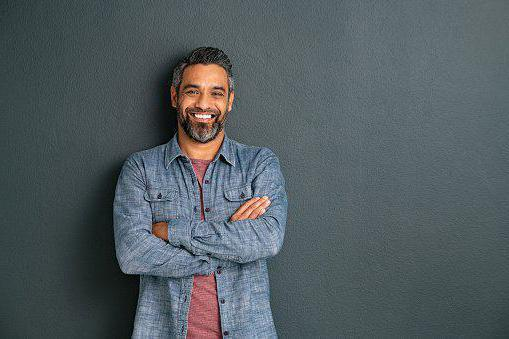Sober: (182, 63, 227, 139)
